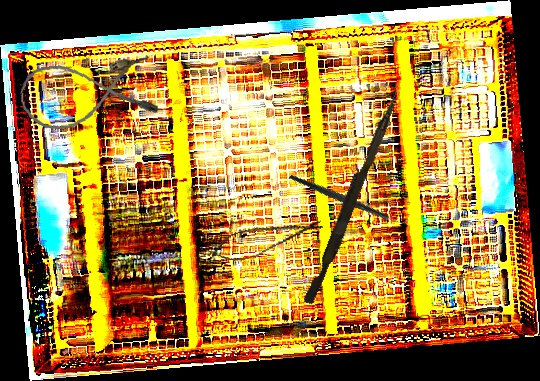Cannula: (16, 53, 160, 134)
Chopper: (287, 138, 412, 259)
Micro Scissor: (206, 209, 326, 269)
Pusher: (303, 86, 401, 308)
